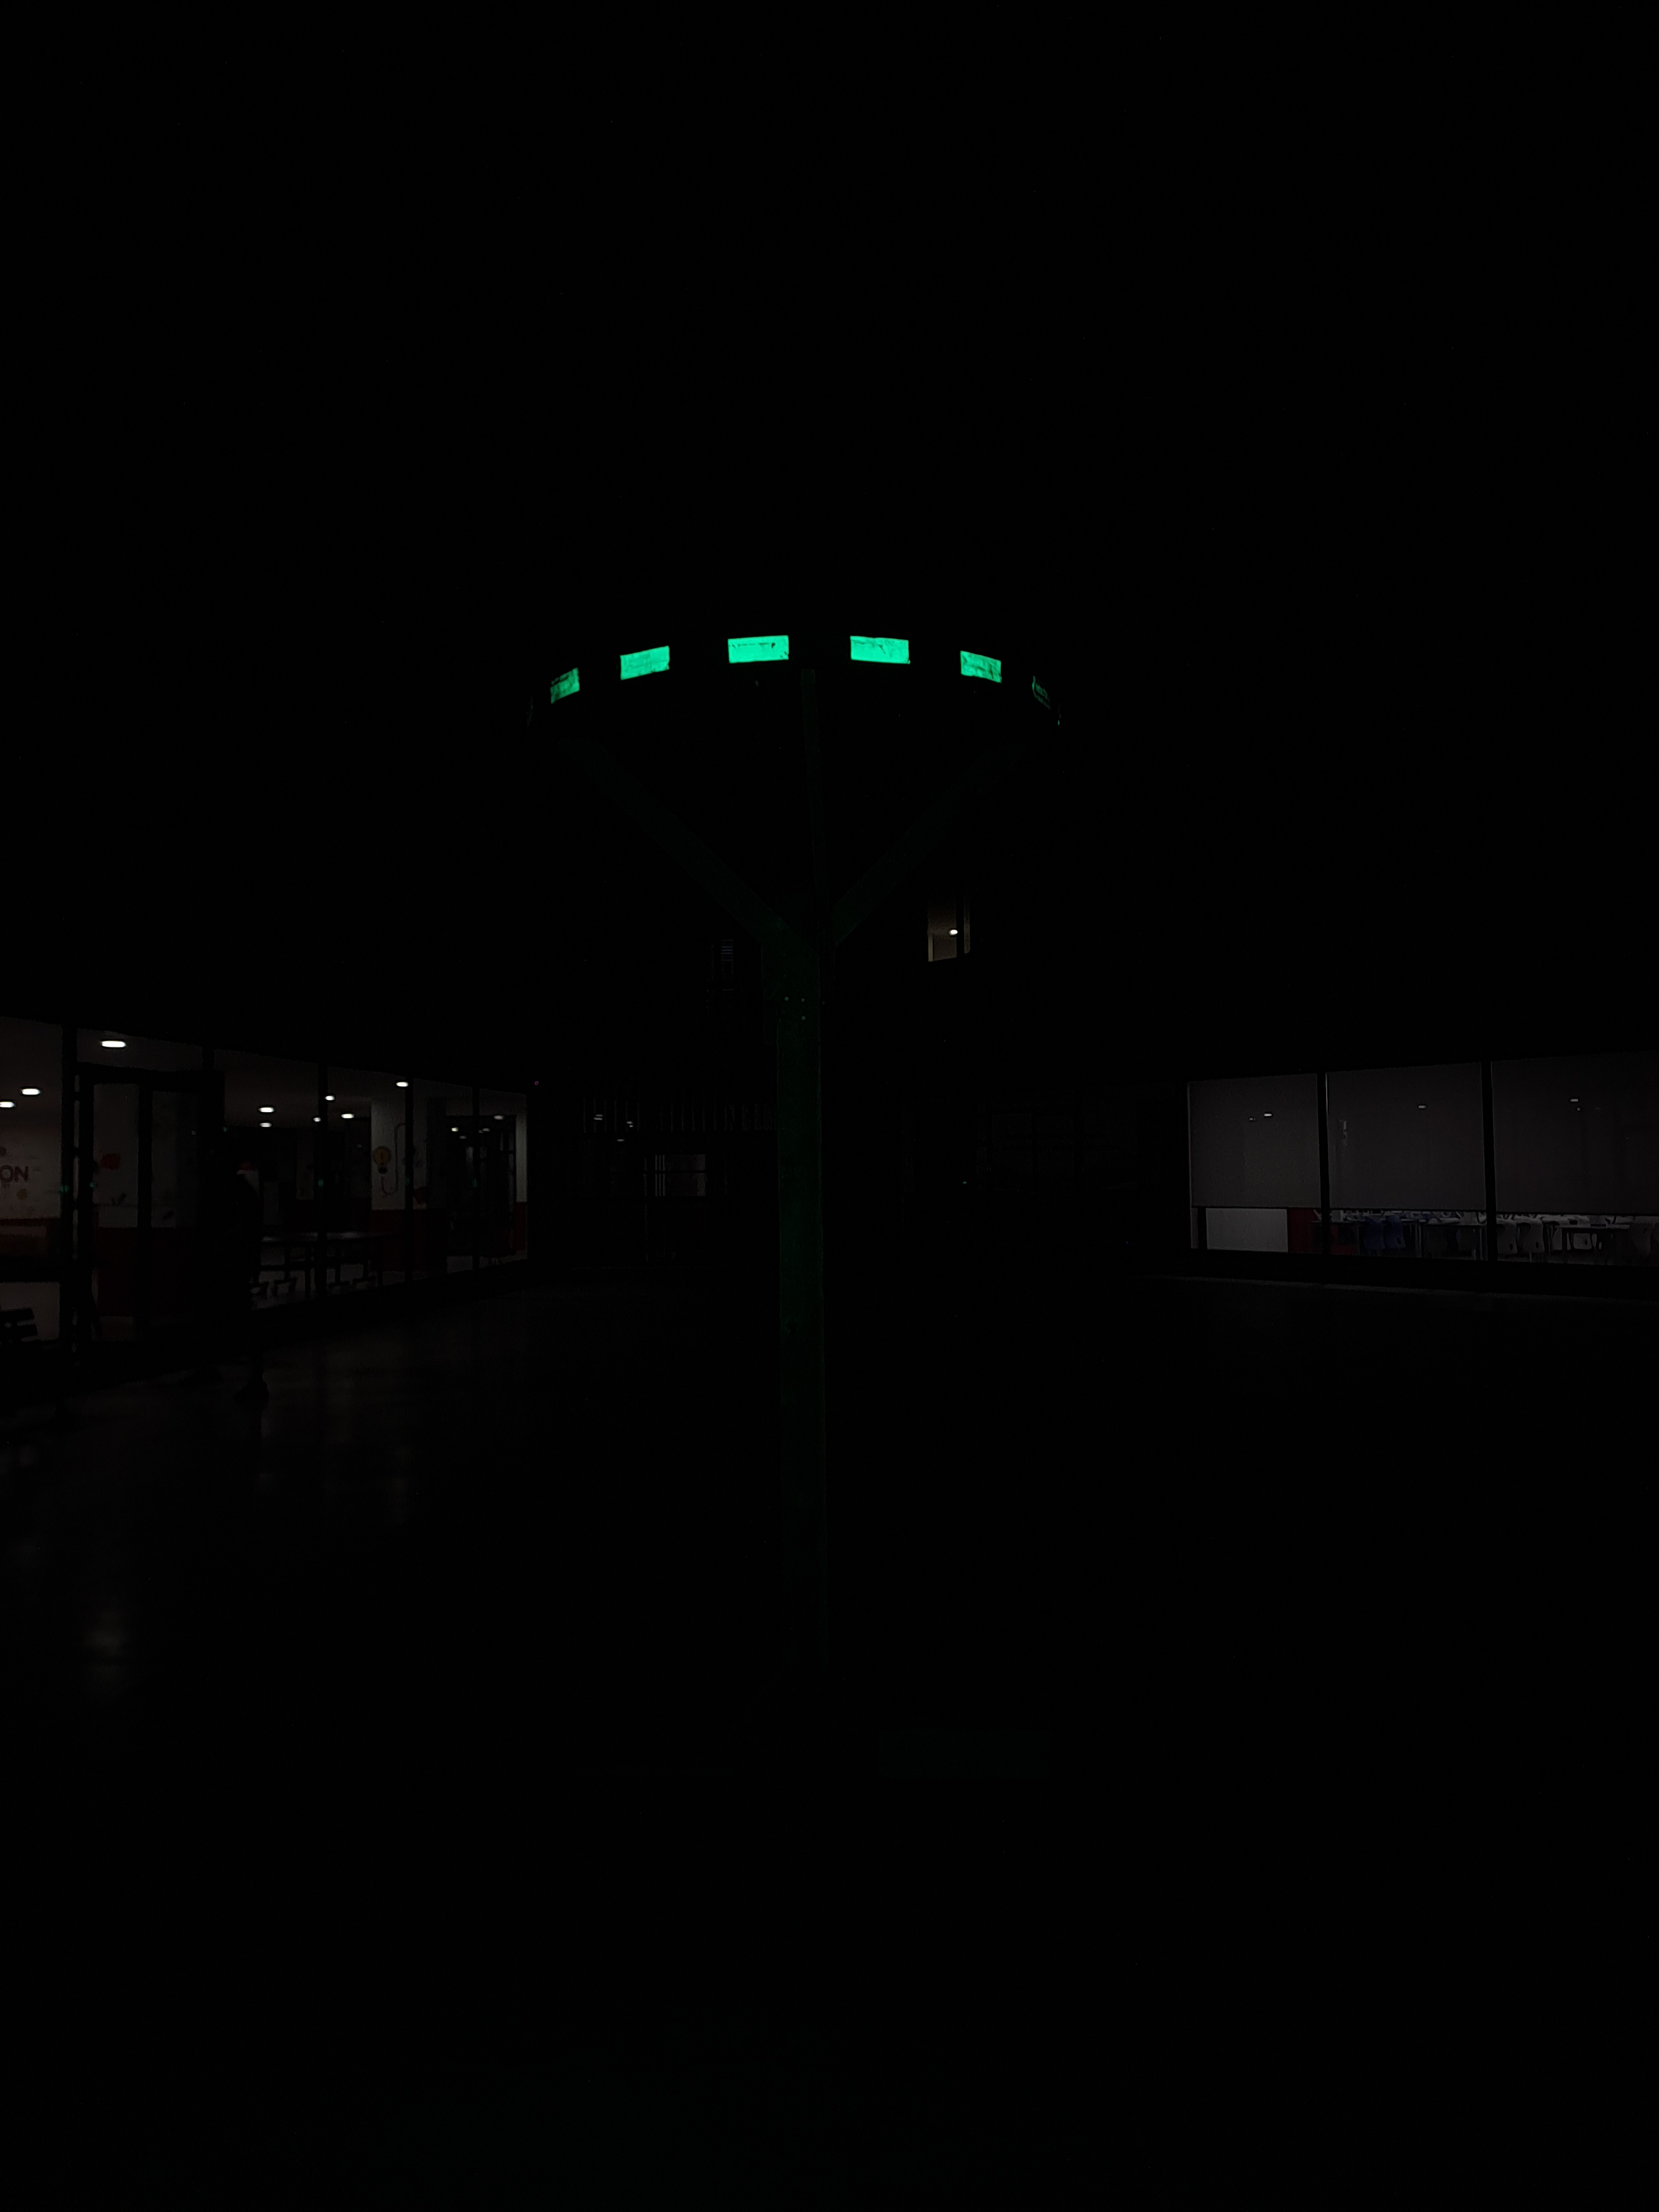hoop: (547, 629, 1011, 711)
